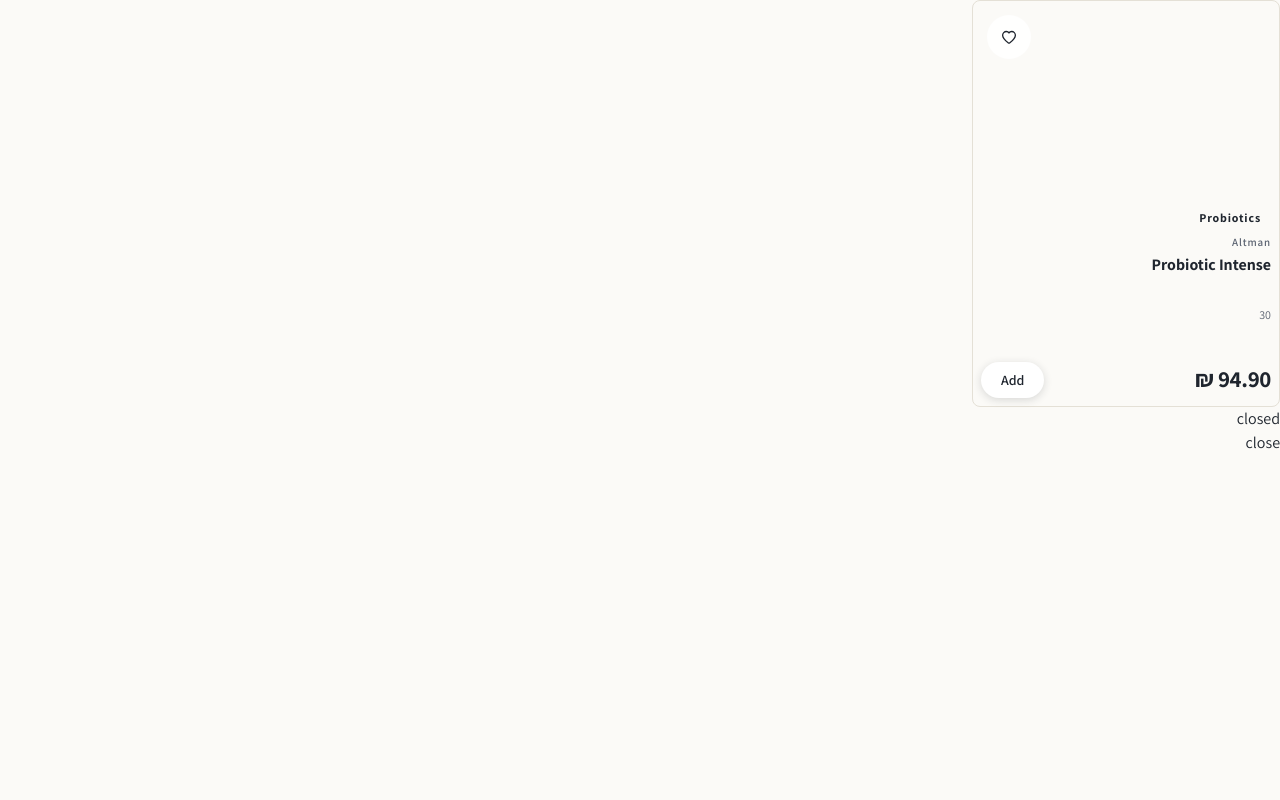
Test: the shared add-to-cart choreography › 🔴 opens the drawer ONLY on a confirmed server success
Step 1. Click the button named "add to cart" → click(1013, 380), box [981, 362, 1044, 398]
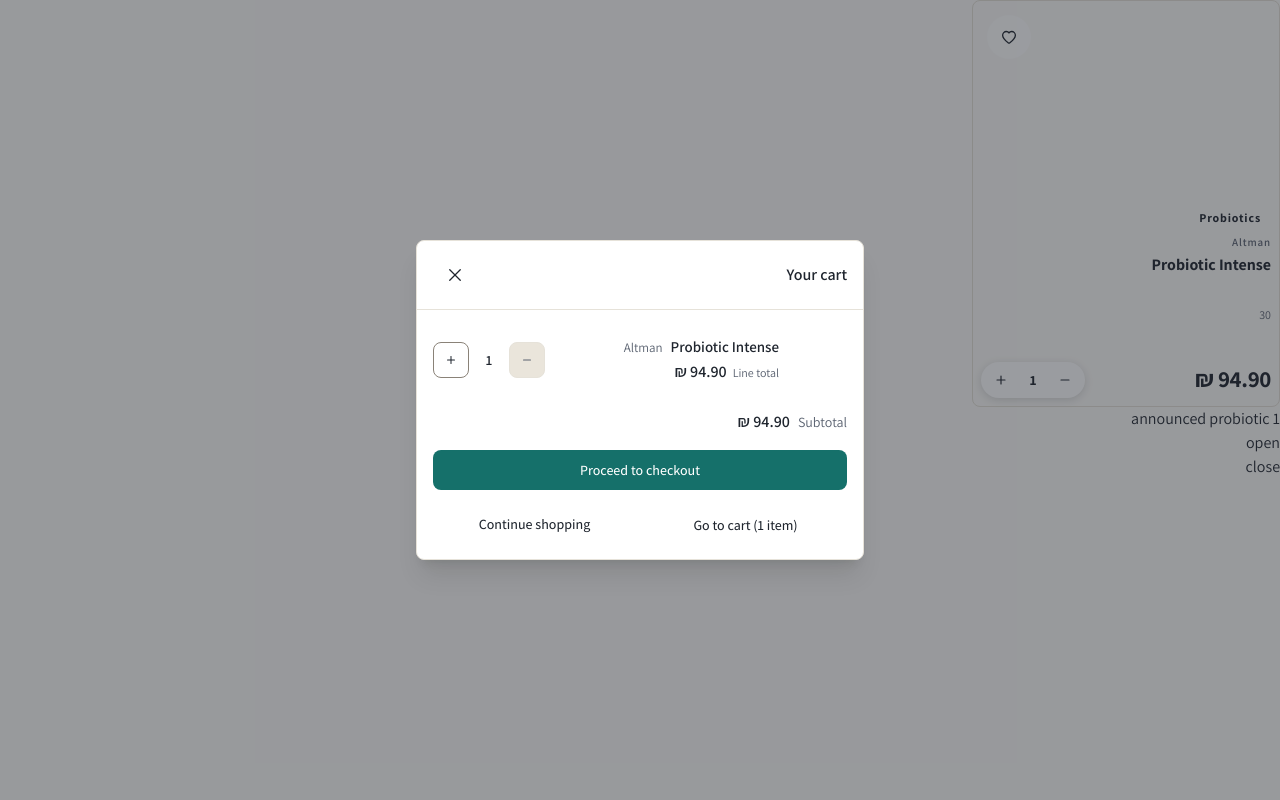
Expected: the text with test id "drawer-state" reads "open", [1246, 432, 1279, 453]
